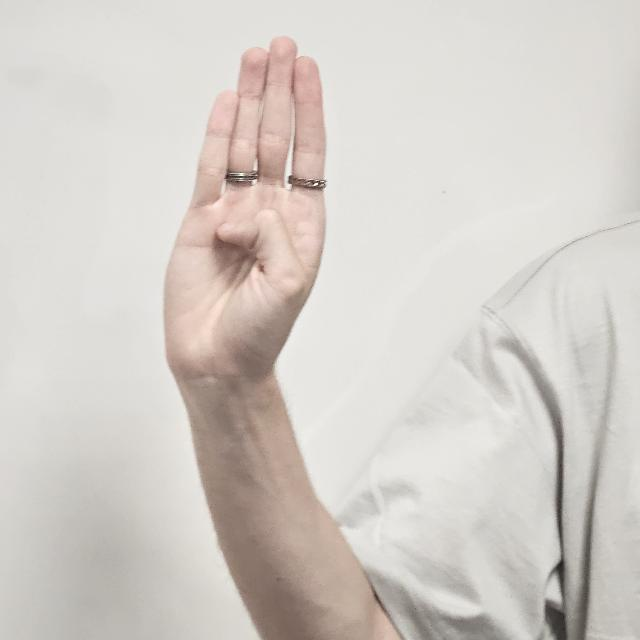Baixo: (162, 35, 336, 408)
